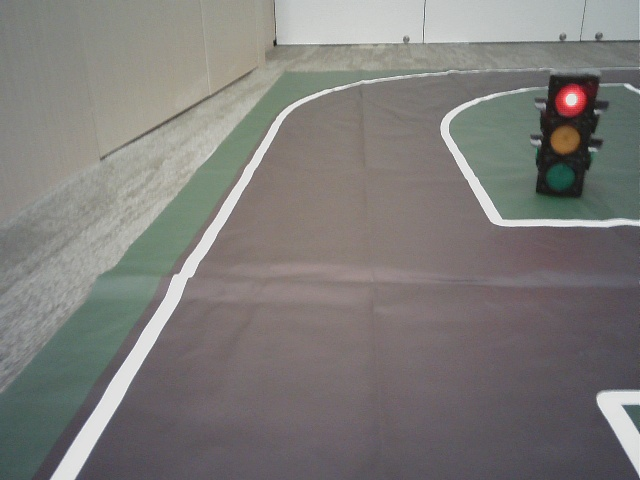red: (547, 80, 584, 190)
